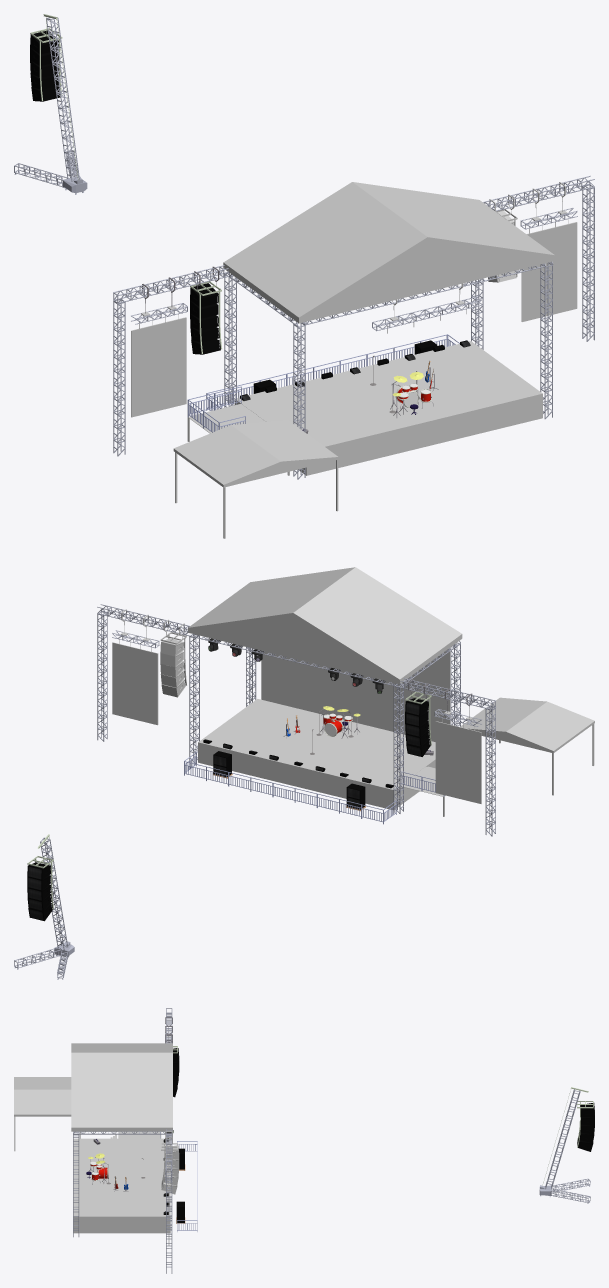
File: stage.glb
3 renders of one model, top to bottom at view 1: azimuth 30°, elevation 25°; view 2: azimuth 150°, elevation 25°; view 3: azimuth 270°, elevation 25°, orthographic. The views are drawn at different scales.
Parts seen in each view (by area): view 1: stage, sideScreen, delayTower, truss, lineSpeaker, enstrumants, mainScreen; view 2: stage, sideScreen, delayTower, truss, lineSpeaker, enstrumants, police; view 3: stage, delayTower, enstrumants.
Part boxes in pixels (box(x1,y1,x2,y2)): stage: box(113, 175, 594, 538); sideScreen: box(520, 182, 577, 321); delayTower: box(14, 14, 87, 194); truss: box(113, 265, 236, 407); lineSpeaker: box(190, 266, 222, 354); enstrumants: box(370, 355, 438, 417); mainScreen: box(372, 283, 481, 333); stage: box(97, 567, 594, 836); sideScreen: box(112, 609, 159, 725); delayTower: box(14, 834, 74, 979); truss: box(294, 659, 495, 813); lineSpeaker: box(405, 679, 431, 756); enstrumants: box(283, 706, 360, 754); police: box(317, 793, 396, 824); stage: box(14, 1014, 197, 1273); delayTower: box(539, 1087, 594, 1203); enstrumants: box(86, 1153, 145, 1191).
Size of the model in its own units: 175 by 73.24 by 269.
Materials: 19 (3 with a texture image).
